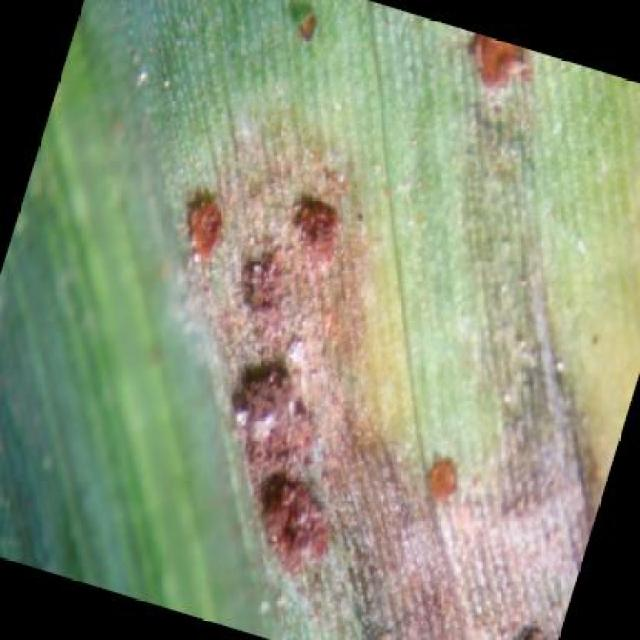Corn_Rust: (105, 58, 563, 584)
